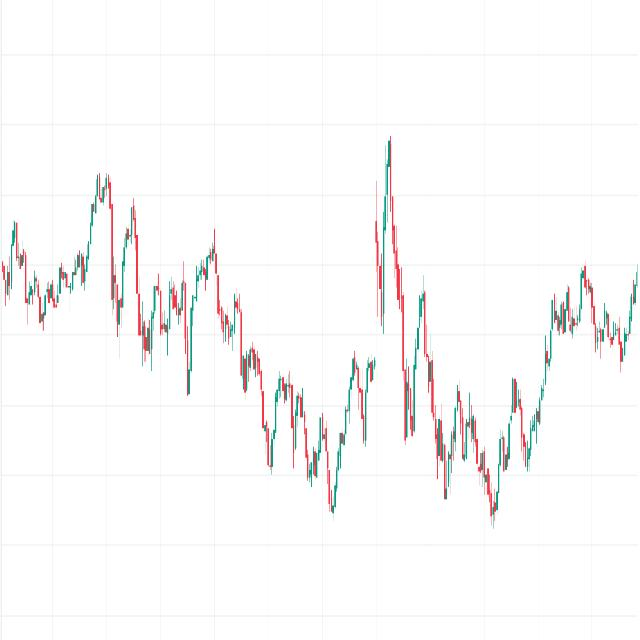Rounding-Bottom: (14, 216, 99, 334)
